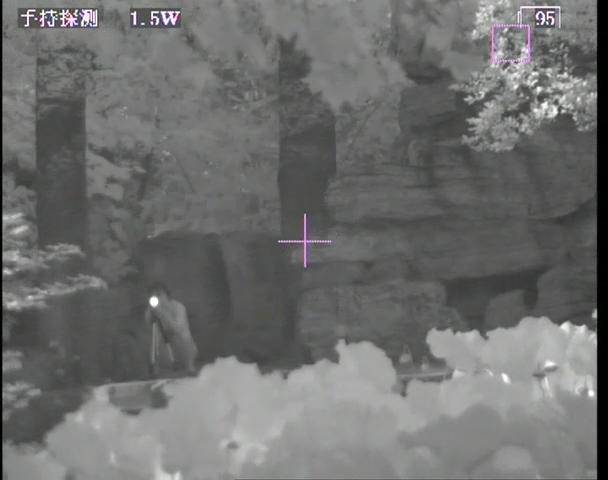my: (147, 294, 160, 308)
